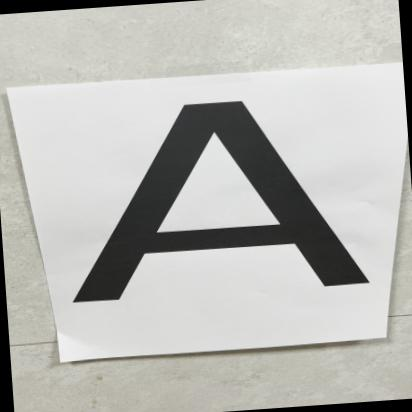seat: (44, 88, 376, 316)
